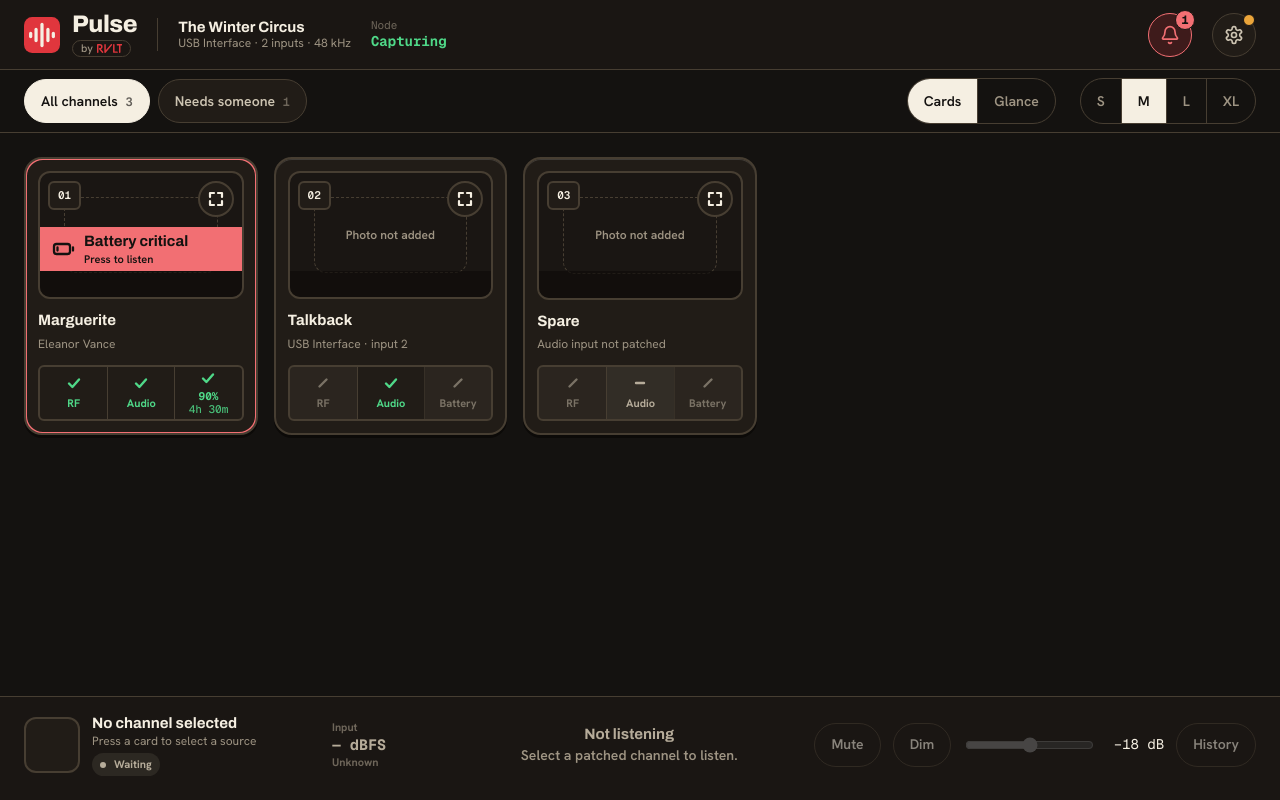
Test: Live channel grid › clears a channel's alerts from its detail view and offers it only when something is raised
Click the button named "Open details for Marguerite" at (216, 199), box [194,177,238,221]
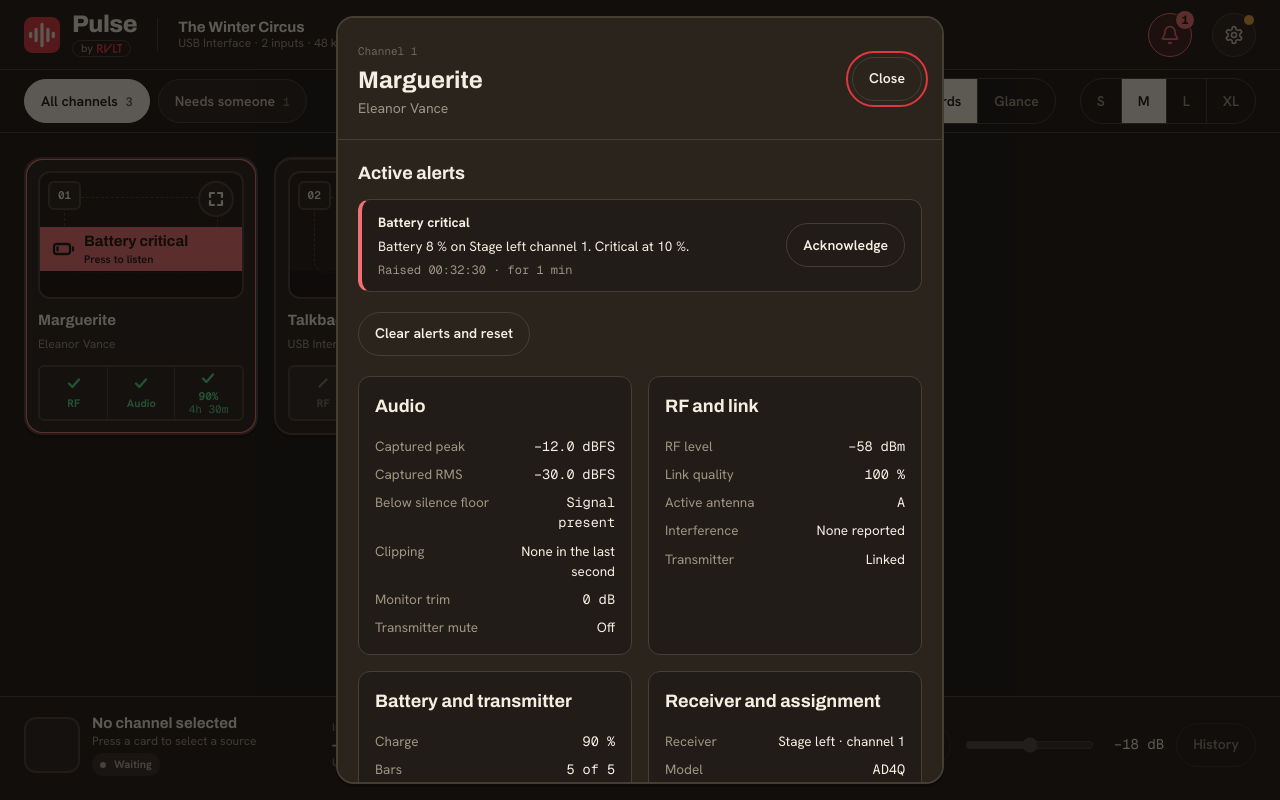
Click the button "Clear alerts and reset" at (444, 334), box [358,312,530,356]
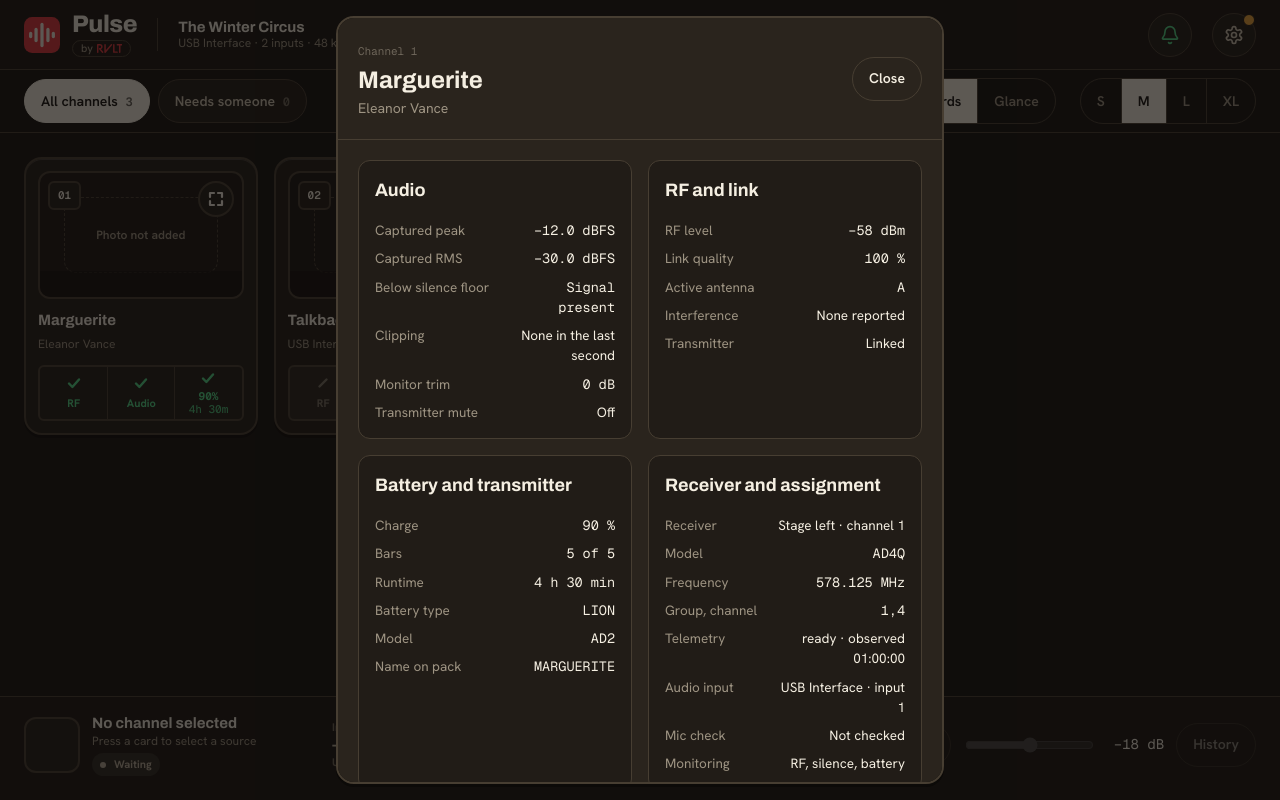
Now the button "Clear alerts and reset" is gone
